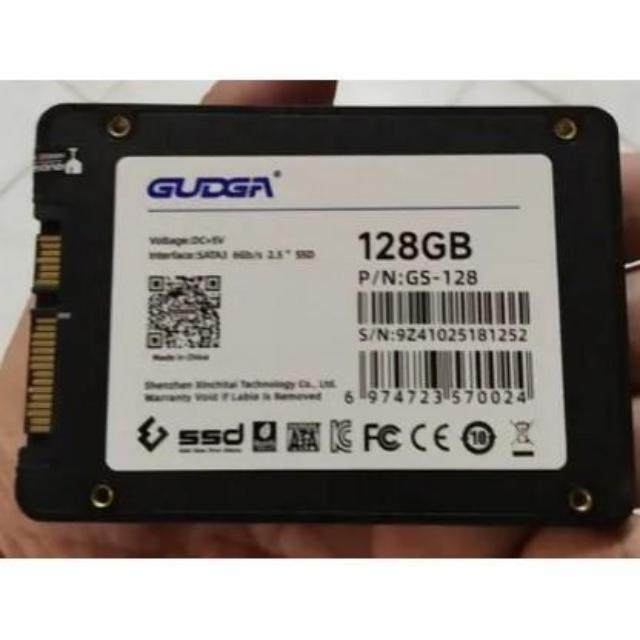DISK: (16, 95, 636, 537)
